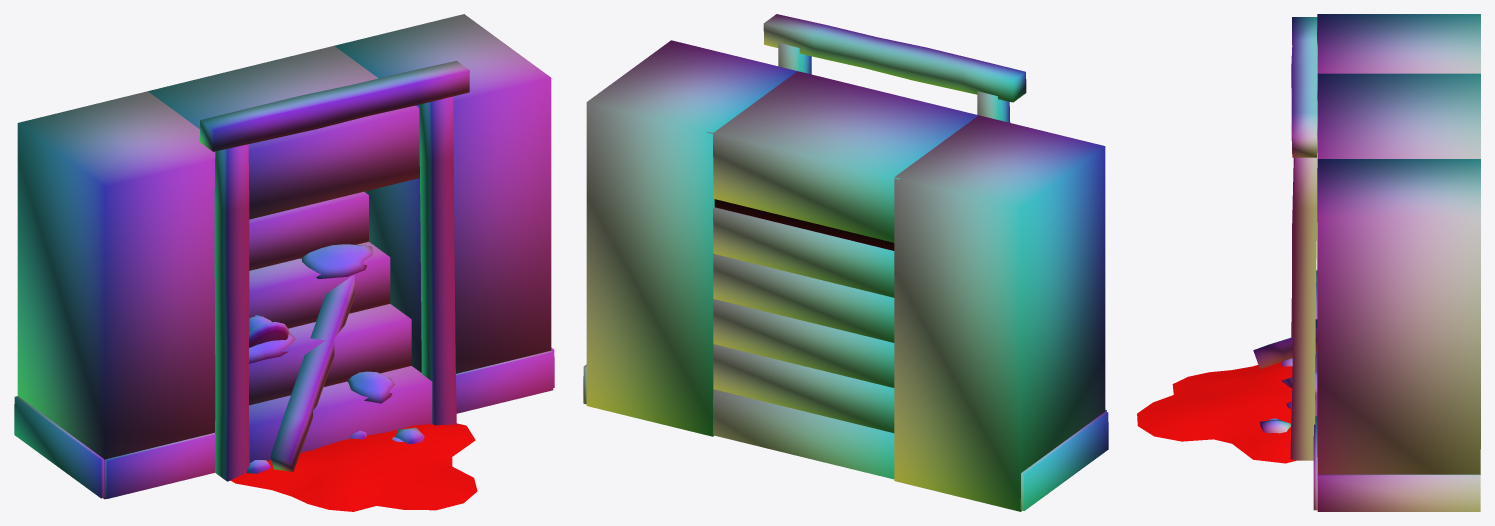
File: SM_Pit_AshSteps.fbx
3 renders of one model, left to right at view 1: azimuth 30°, elevation 25°; view 2: azimuth 150°, elevation 25°; view 3: azimuth 270°, elevation 25°, orthographic. The views are drawn at different scales.
Visible parts, largest first — view 1: SM_Pit_AshSteps; view 2: SM_Pit_AshSteps; view 3: SM_Pit_AshSteps.
Boxes of the visible parts, x1,y1,x2,y2 form: SM_Pit_AshSteps: (14,14,554,511); SM_Pit_AshSteps: (583,14,1108,511); SM_Pit_AshSteps: (1137,14,1480,511).
Size of the model in its own units: 3.07 by 2.33 by 2.15.
